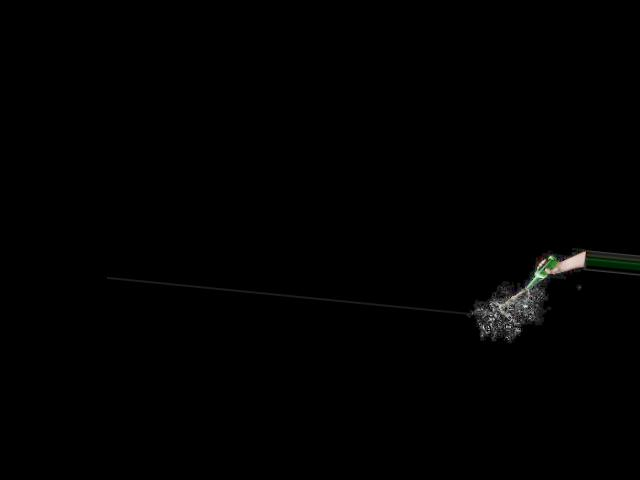beer: (525, 252, 560, 293)
